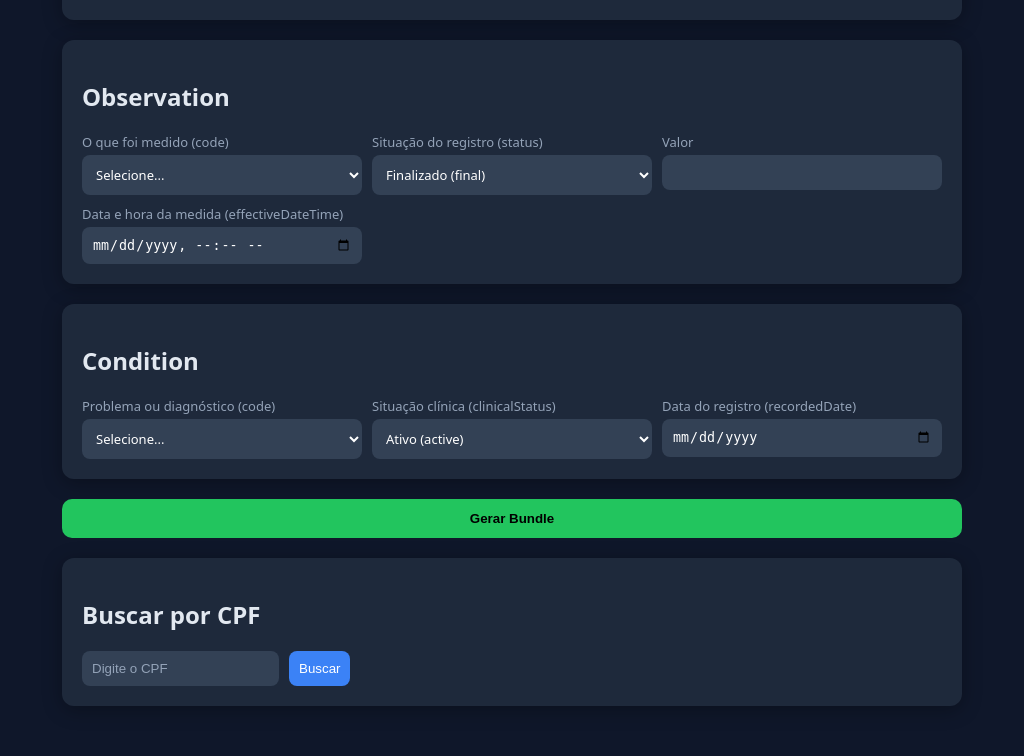
Test case: busca com resultado permite abrir o bundle no editor
The width and height of the screenshot is (1024, 756).
(page scrolled)
Type "12345678910" into the field with placeholder "Digite o CPF".
click(180, 668); type("12345678910")  # box x1=82 y1=651 x2=279 y2=686
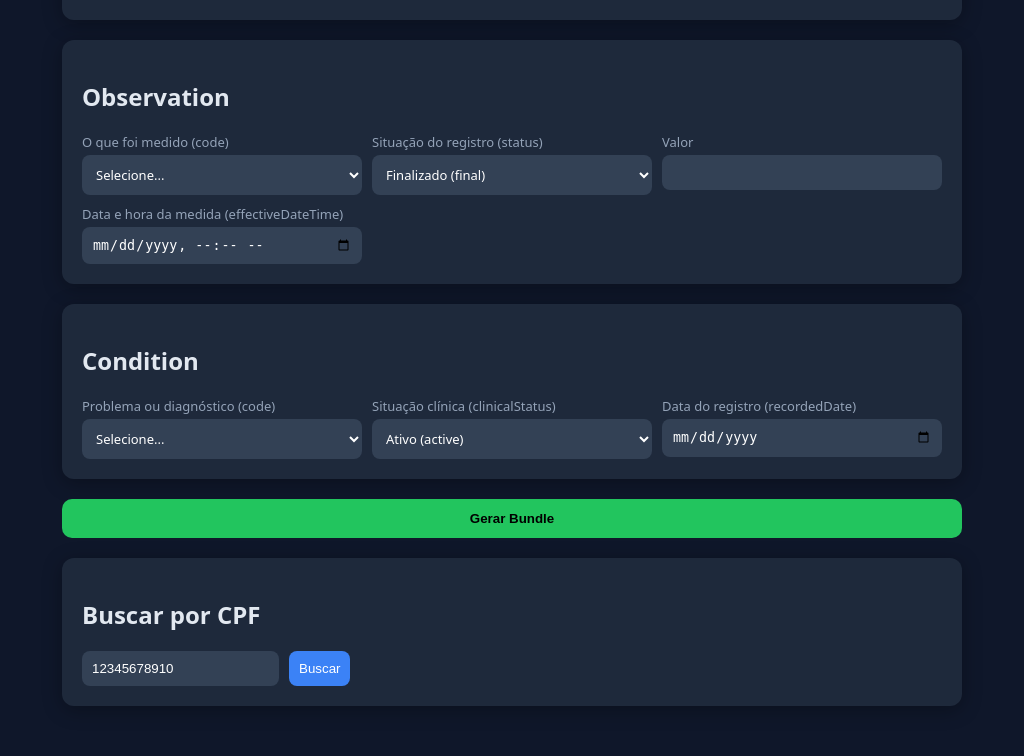
Click the button "Buscar".
click(320, 668)  # box x1=289 y1=651 x2=350 y2=686
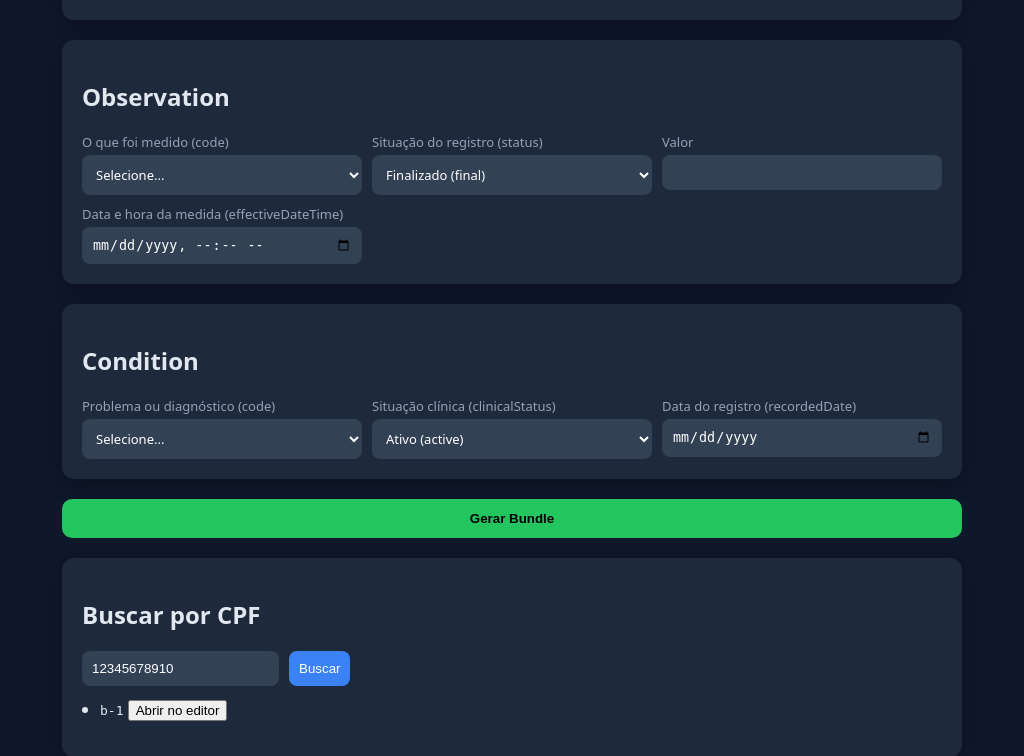
Click the button "Abrir no editor".
click(178, 710)  # box x1=128 y1=700 x2=227 y2=721
(page scrolled)
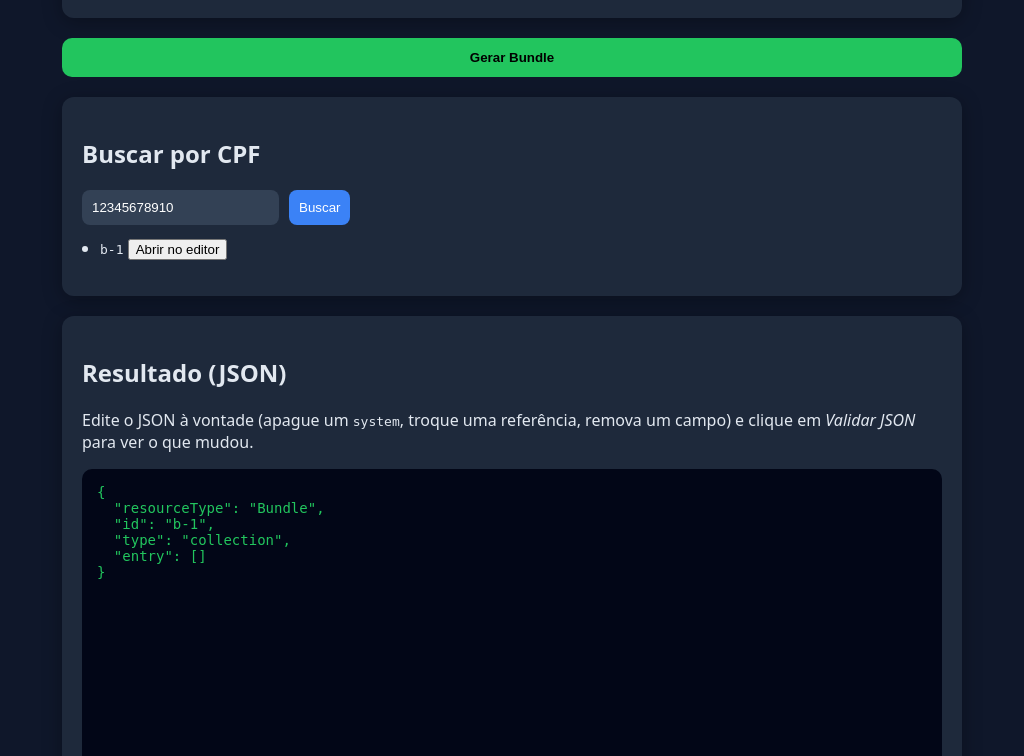
Check: the heading "Resultado (JSON)" is shown, box x1=82 y1=356 x2=286 y2=389
